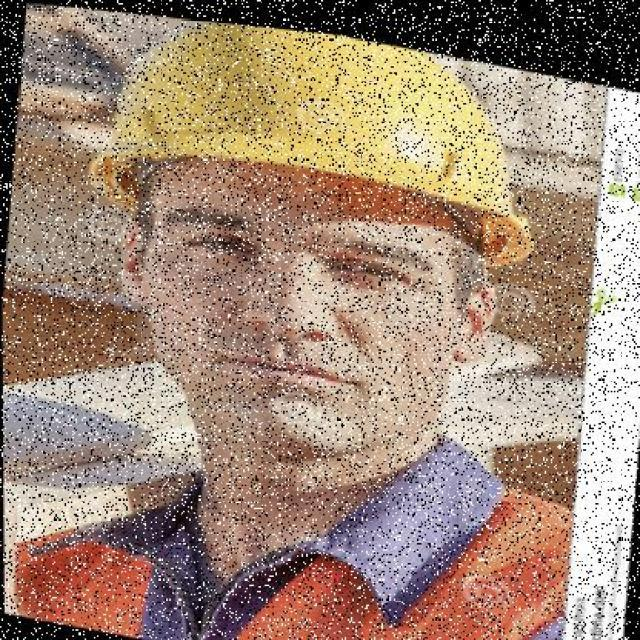helmet: (60, 5, 578, 284)
